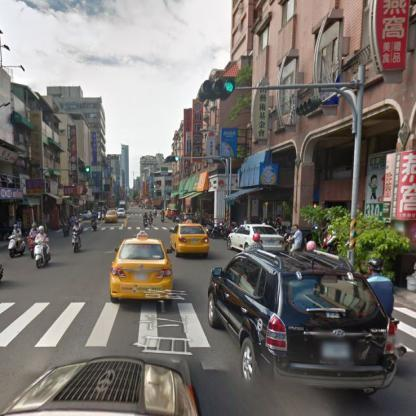Green Light: (199, 77, 237, 98)
